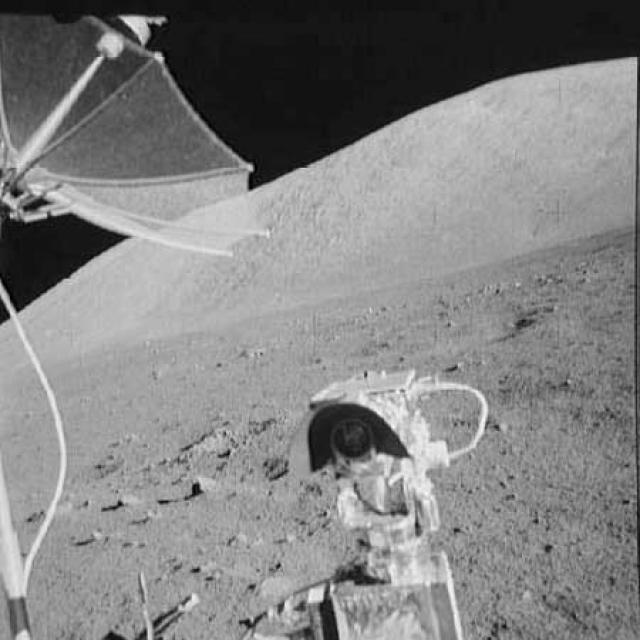artifact: (1, 16, 270, 265), (288, 370, 497, 638), (0, 276, 78, 638)
crater: (487, 316, 537, 334)
rock: (165, 417, 243, 462), (190, 468, 222, 500)
